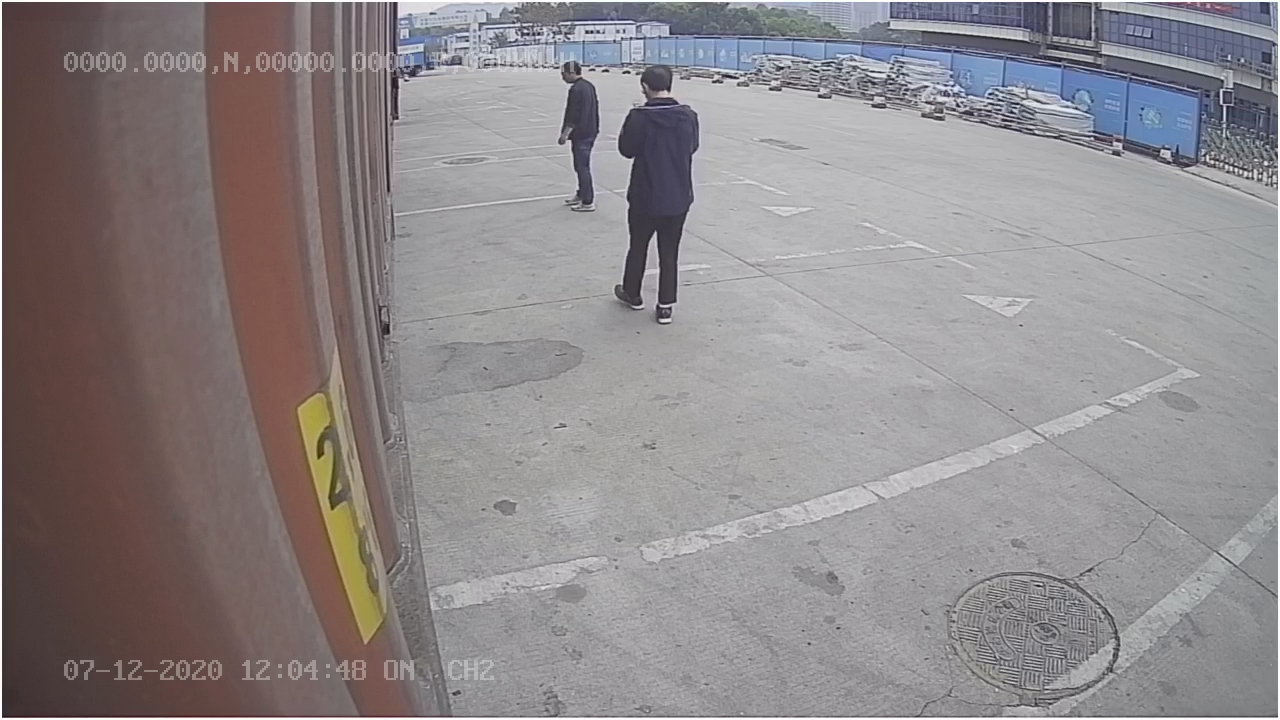person: (613, 64, 704, 323)
